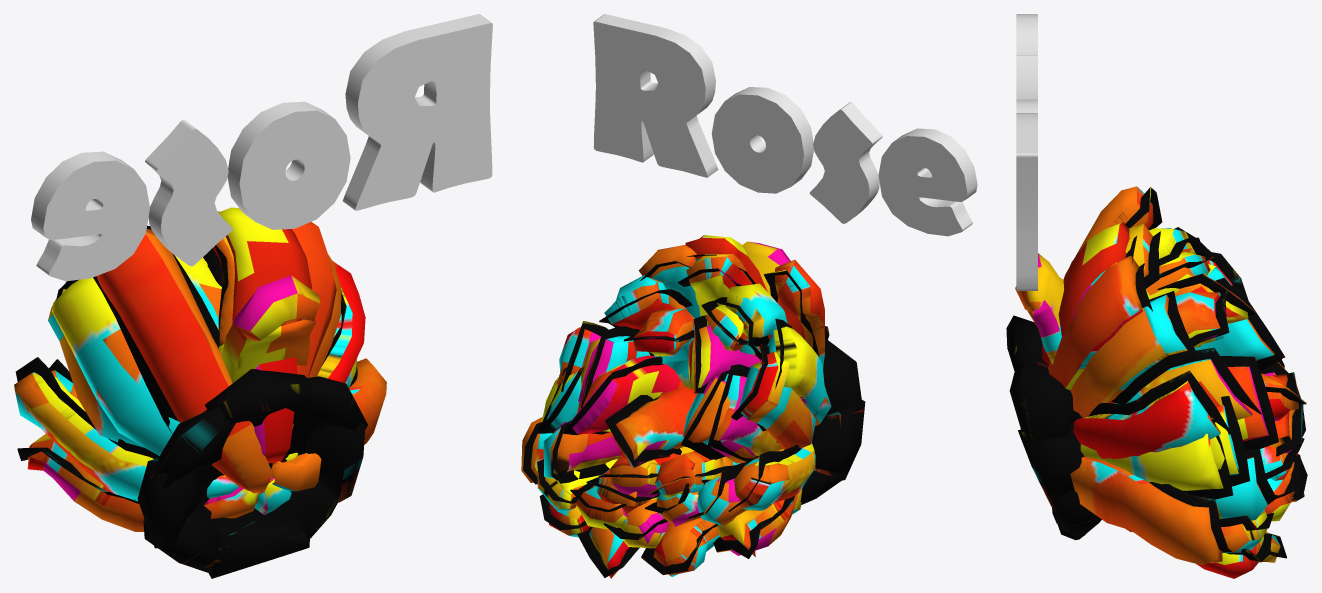
The model's file is ROSE.fbx.
The picture shows the model from 3 angles, left to right: view 1: azimuth 30°, elevation 25°; view 2: azimuth 150°, elevation 25°; view 3: azimuth 270°, elevation 25°; orthographic projection. The views are drawn at different scales.
Parts seen in each view (by area): view 1: CHOOSEROSE, Text.001; view 2: CHOOSEROSE, Text.001; view 3: CHOOSEROSE, Text.001.
Part boxes in pixels (x1=…): CHOOSEROSE: x1=14, y1=207, x2=386, y2=578; Text.001: x1=31, y1=14, x2=492, y2=281; CHOOSEROSE: x1=521, y1=235, x2=865, y2=578; Text.001: x1=593, y1=14, x2=977, y2=236; CHOOSEROSE: x1=1006, y1=186, x2=1307, y2=578; Text.001: x1=1016, y1=14, x2=1037, y2=290.
Size of the model in its own units: 47.06 by 53.62 by 30.73.
